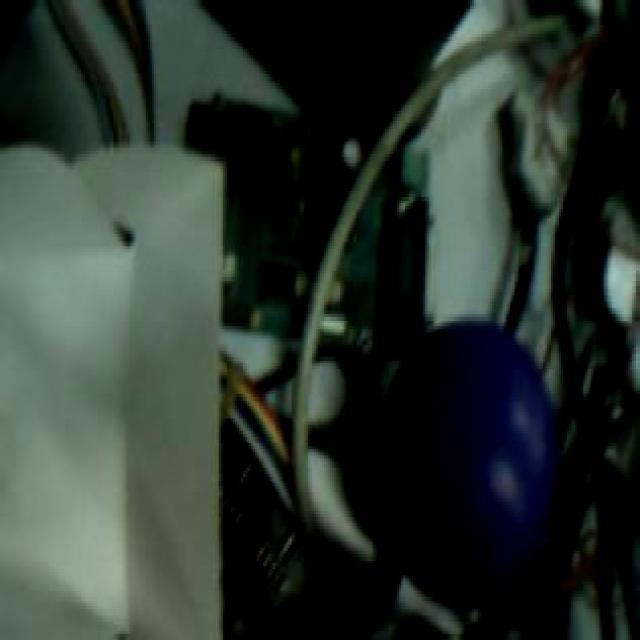BallPurple: (378, 317, 559, 608)
